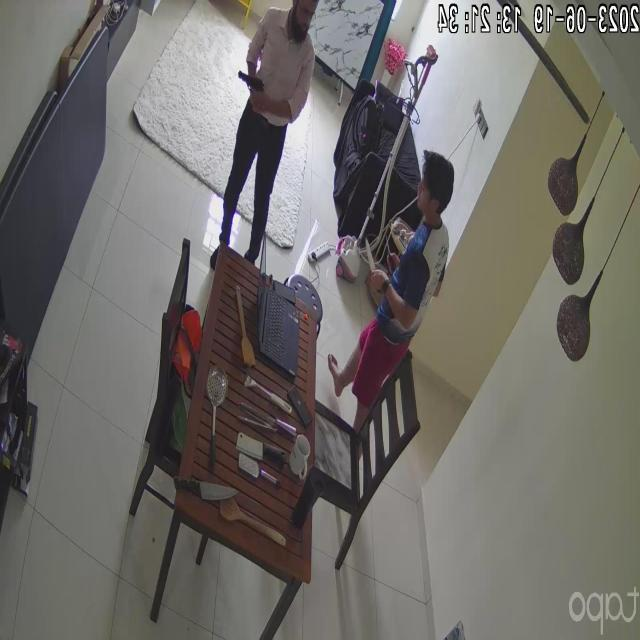Gun: (233, 66, 285, 102)
Knife: (170, 471, 243, 507), (357, 230, 388, 282)
